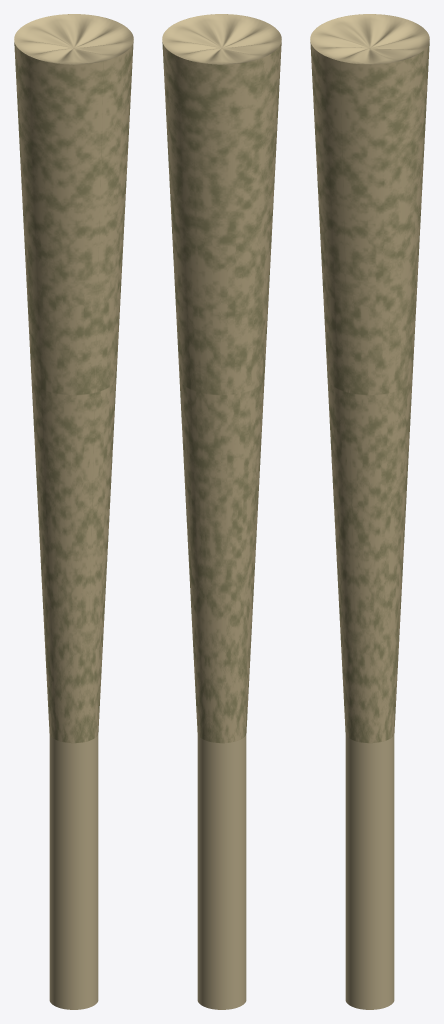
The picture shows the model from 3 angles, left to right: view 1: azimuth 30°, elevation 25°; view 2: azimuth 150°, elevation 25°; view 3: azimuth 330°, elevation 25°; orthographic projection.
Visible parts, largest first — view 1: cone0; view 2: cone0; view 3: cone0.
Part boxes in pixels (left/top/right/bottom): cone0: left=14, top=14, right=133, bottom=1009; cone0: left=162, top=14, right=281, bottom=1009; cone0: left=310, top=14, right=429, bottom=1009.
Size of the model in its own units: 0.0122 by 0.108 by 0.0122.
2 materials, 1 textured.
